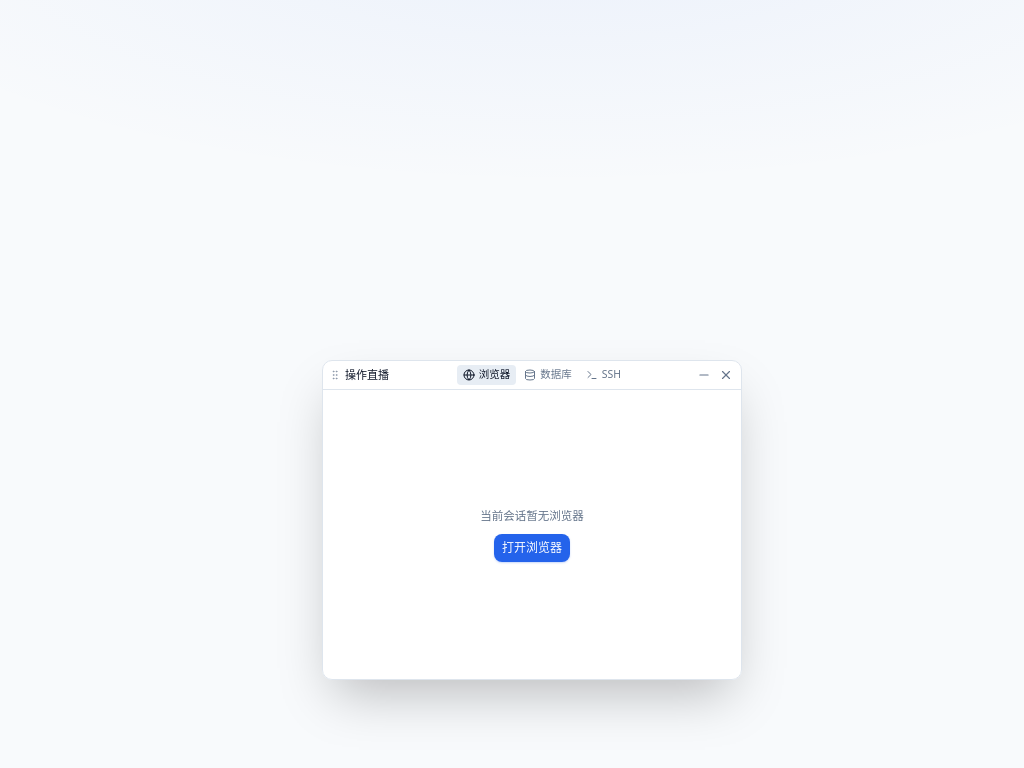
LiveDock 组件三态与联动 › 卡片态渲染 tabs；切换数据库 tab 展示 DB 视图
Expected: the text "操作直播" is shown, [345,367,389,383]
What coordinates should you click on to do the following:
click the button "数据库"
I would click on:
 (548, 375)
Its box is [518,365,578,385].
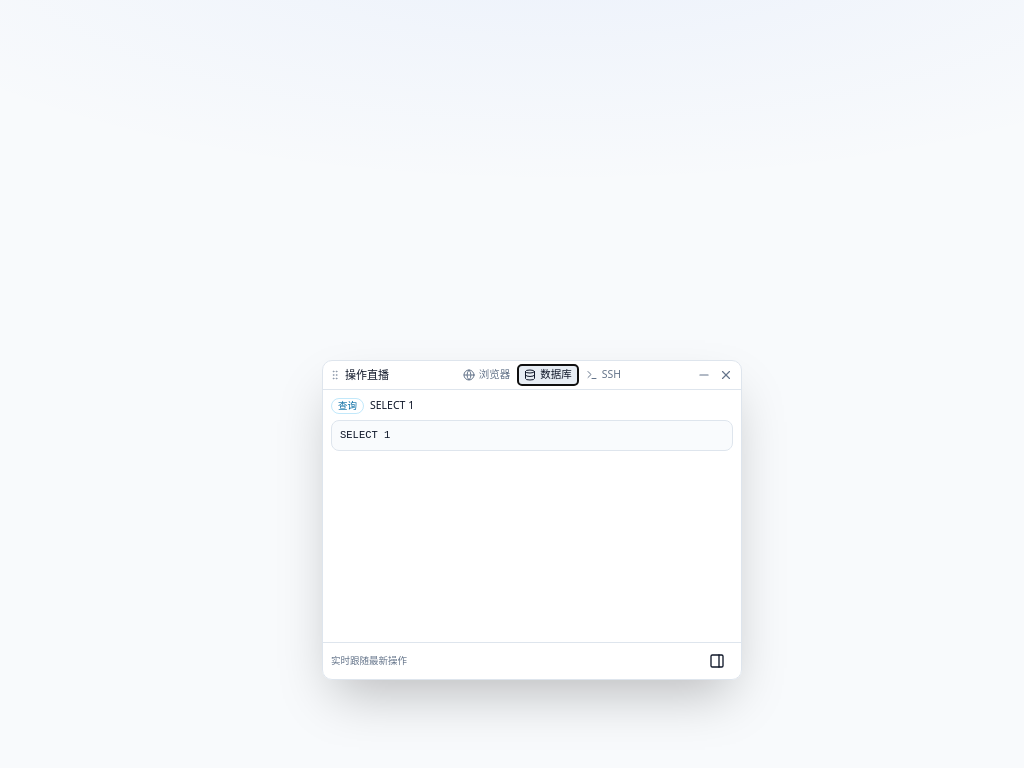
Now the text "查询" is shown, box [331,398,364,414]
Now the 2nd text "SELECT 1" is shown, box [340,429,390,441]
